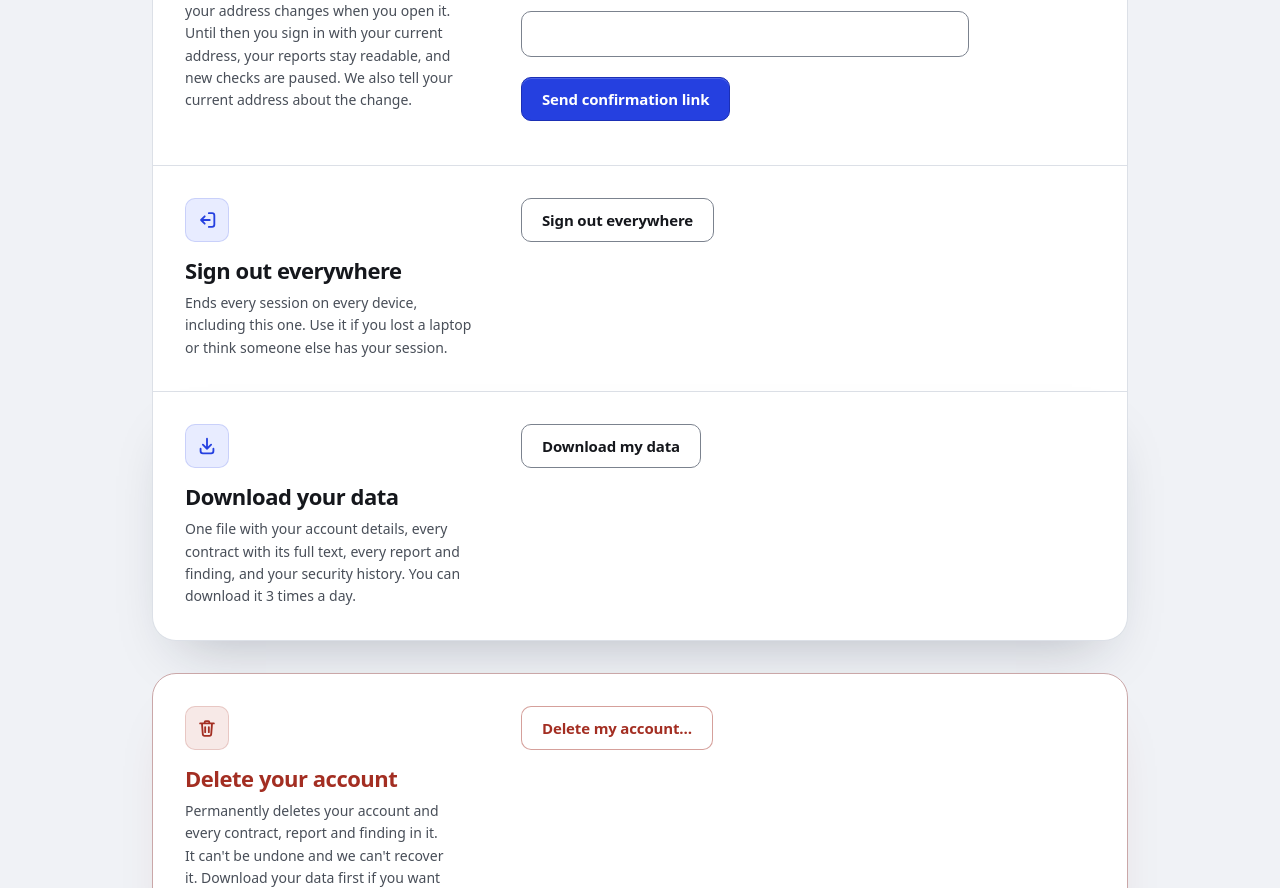
SettingsPage (FR-7.1, FR-1.9, FR-4.5, FR-4.6) › download my data › shows the server's message when the daily limit is reached, and downloads nothing
The width and height of the screenshot is (1280, 888).
(page scrolled)
Step 1. Click the button "Download my data" → coordinates (611, 446), box [521,424,701,468]
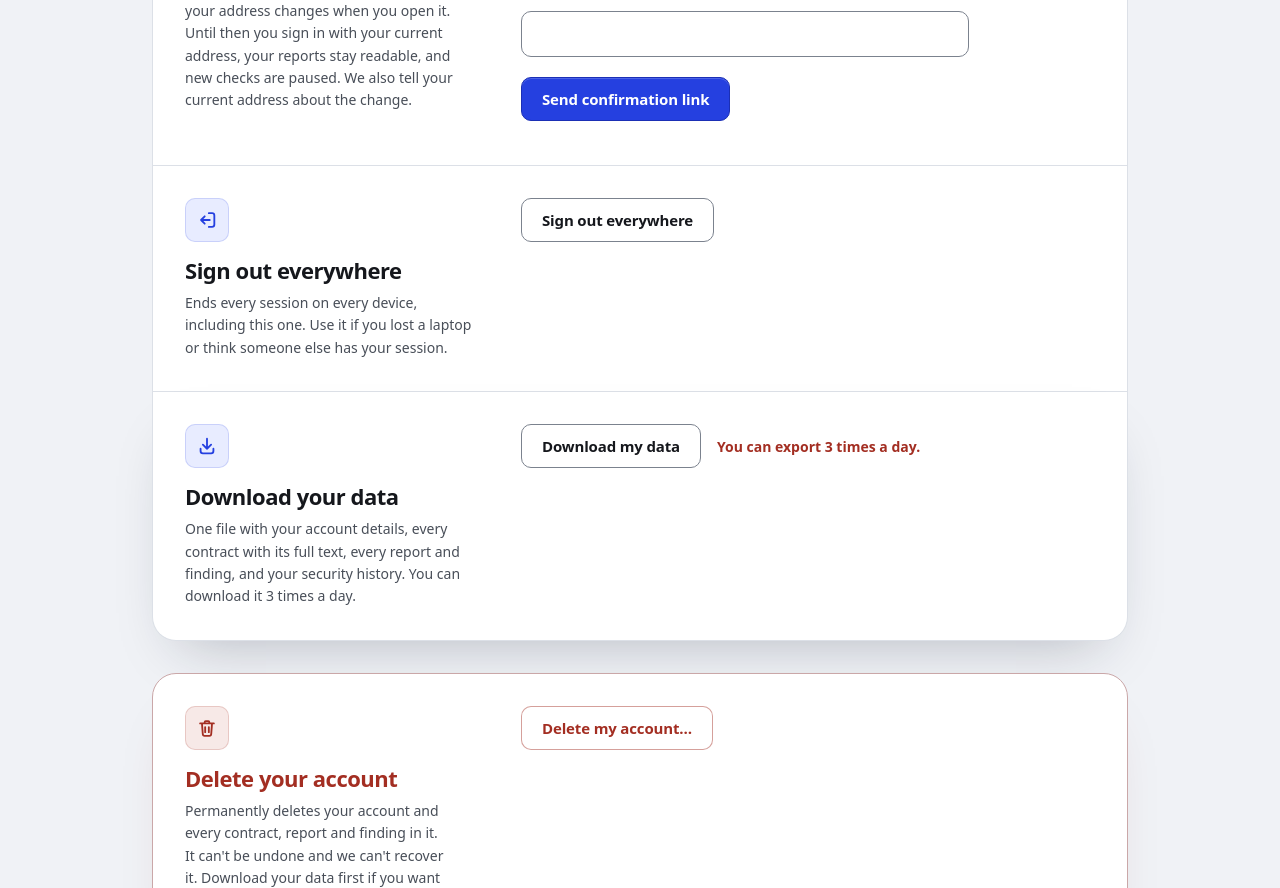
Expected: the text "You can export 3 times a day." is shown, [717,437,920,456]
